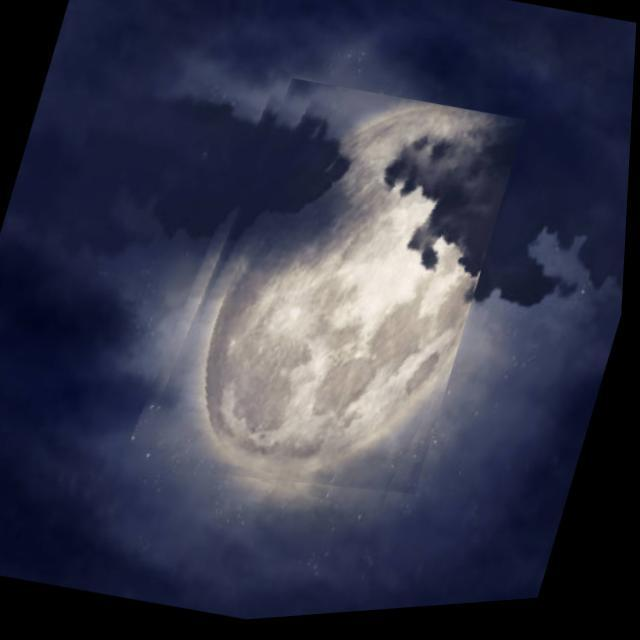moon: (134, 59, 530, 538)
